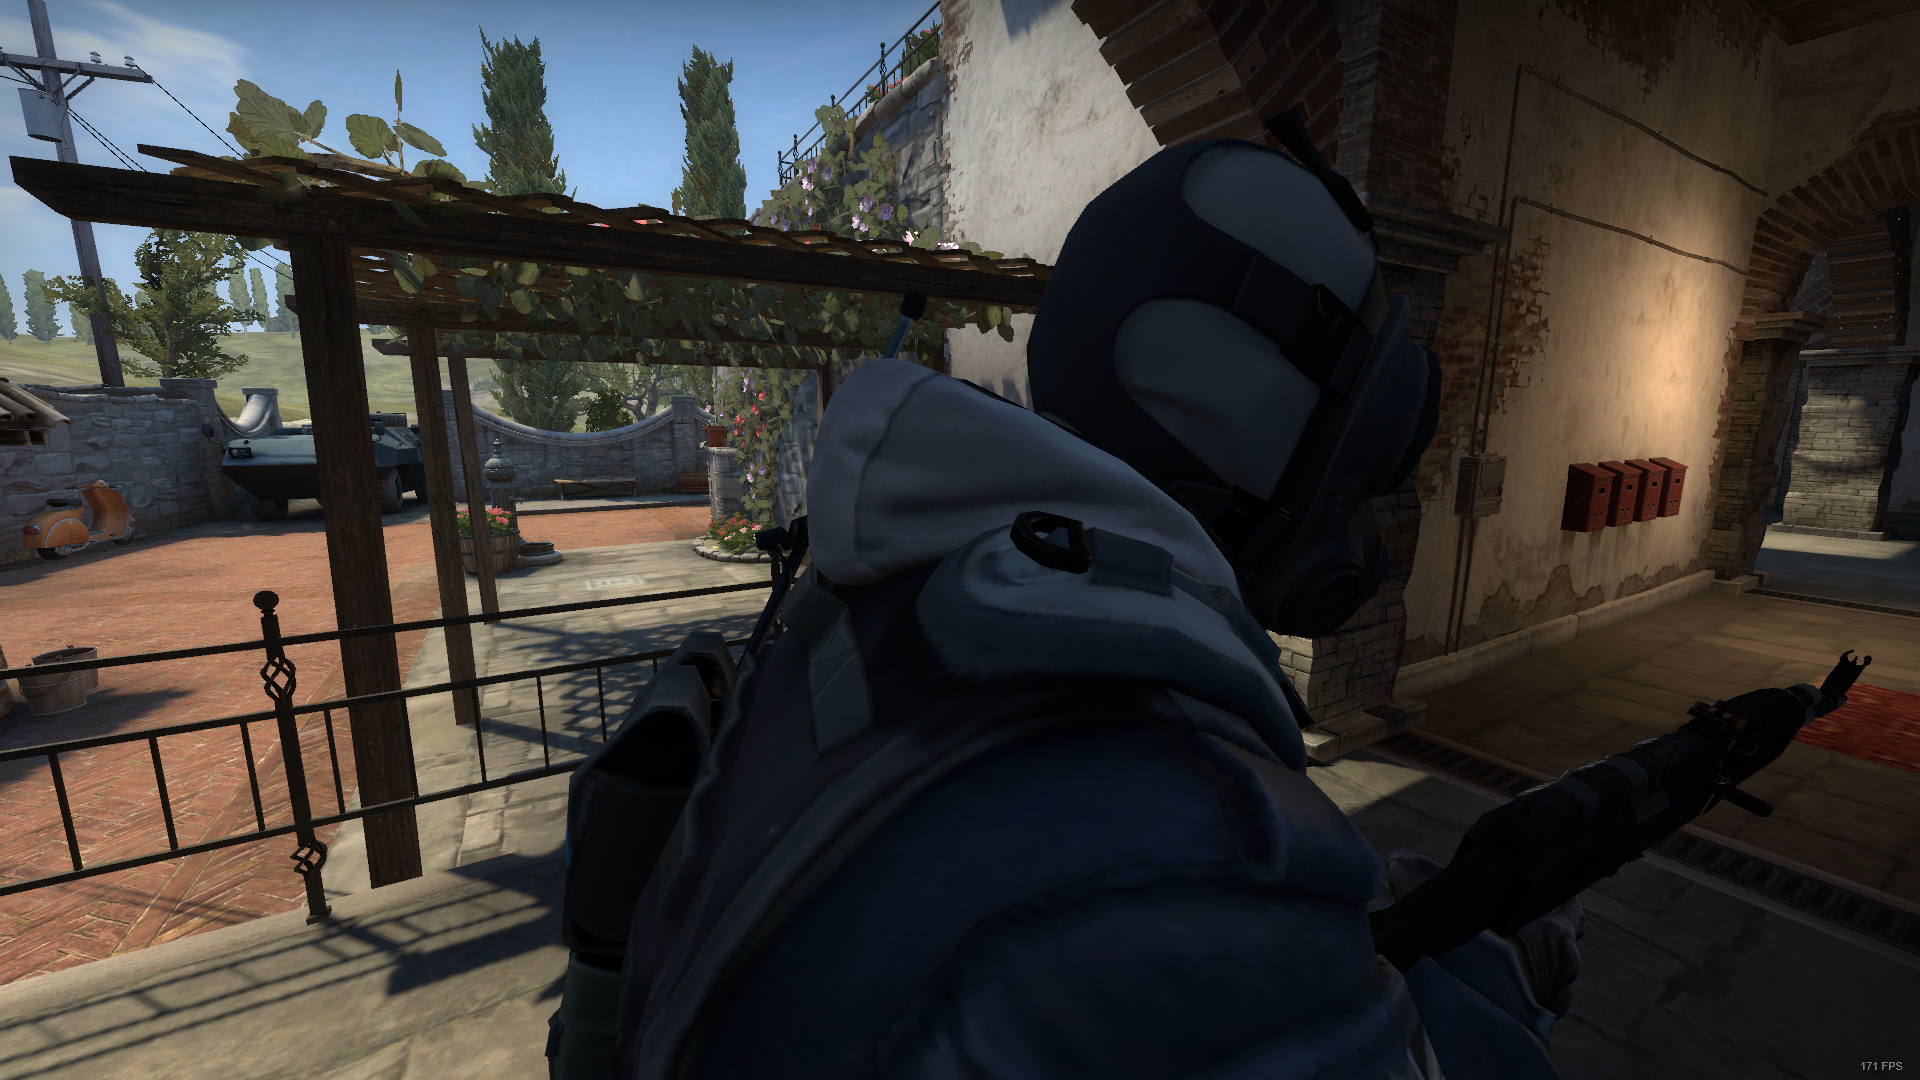ct: (546, 133, 1590, 1080)
